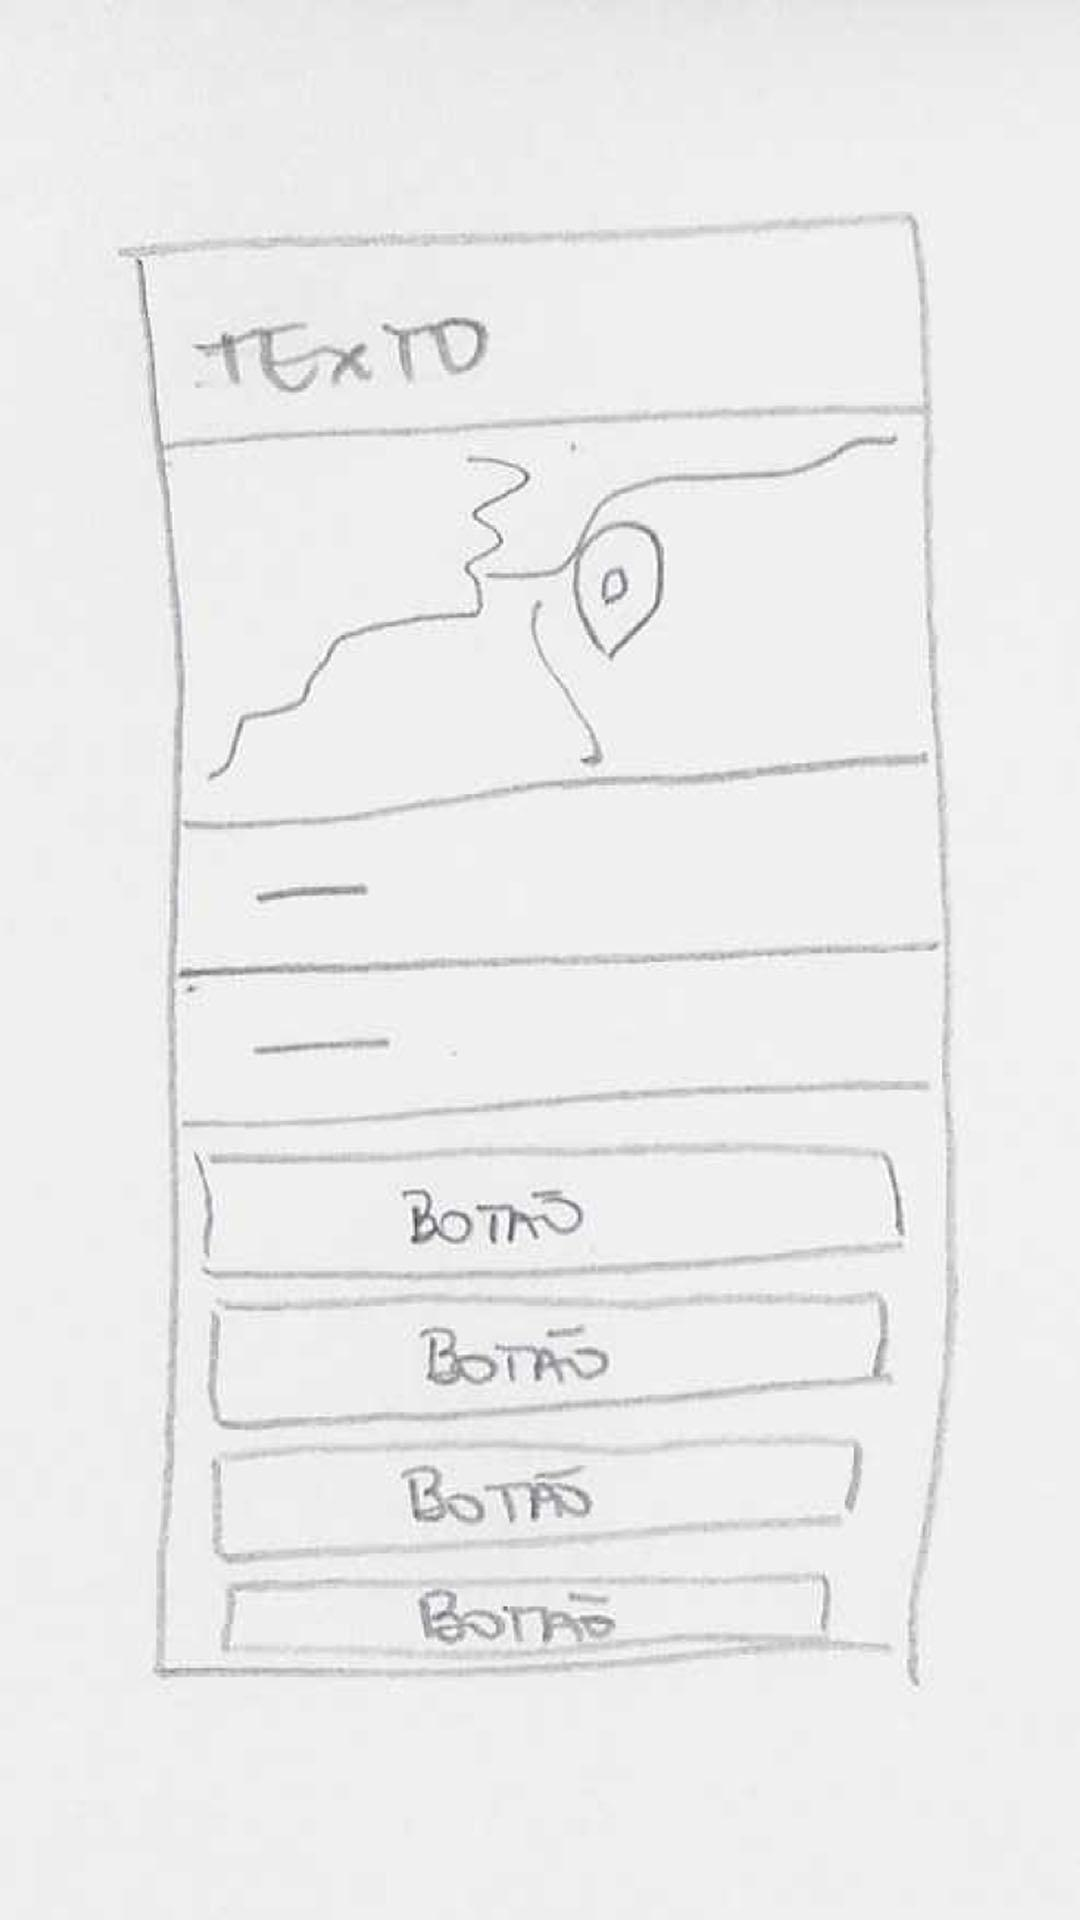Button: (191, 1143, 901, 1280), (206, 1295, 890, 1429), (212, 1440, 858, 1561), (222, 1573, 831, 1652)
Label: (196, 315, 489, 393), (251, 865, 376, 913), (249, 1030, 397, 1062)
Map: (162, 405, 939, 828)
Screen: (136, 216, 957, 1681)
